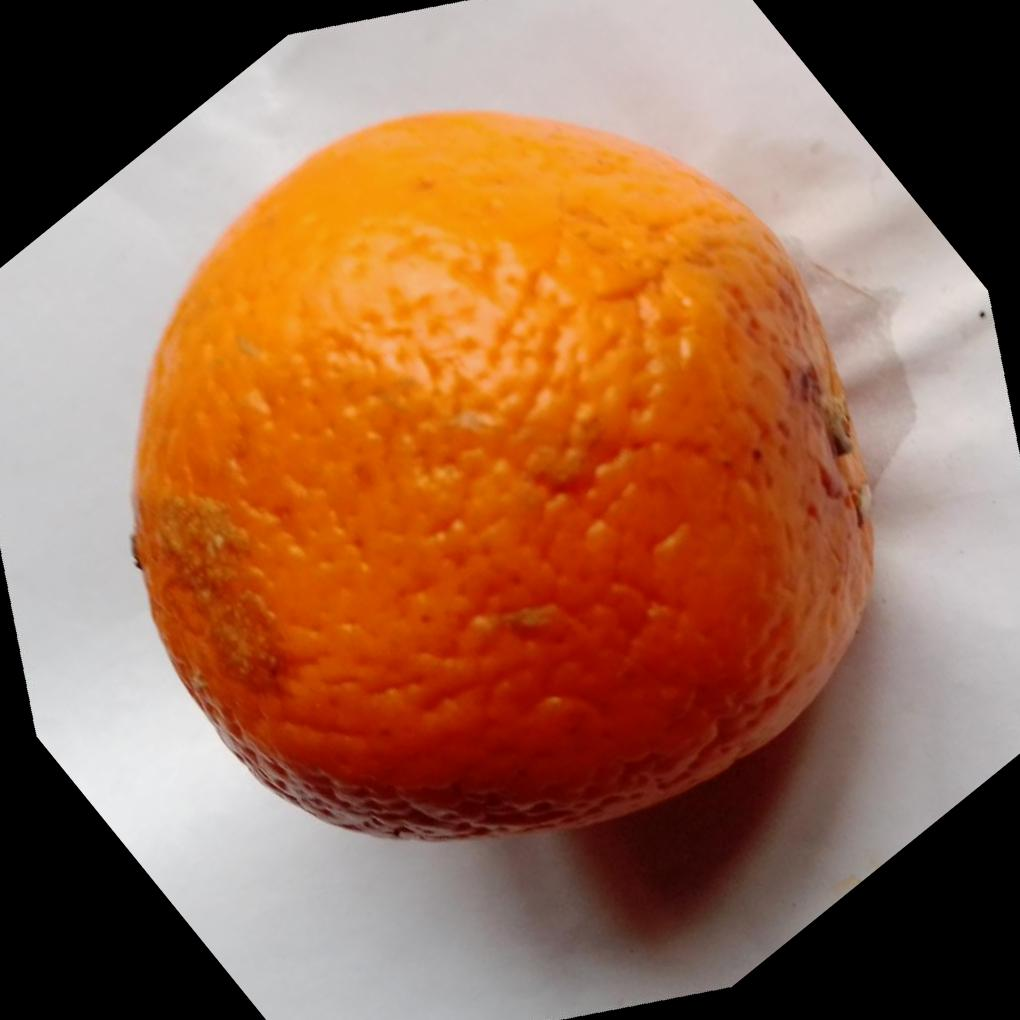FreshOrange: (130, 104, 880, 844)
